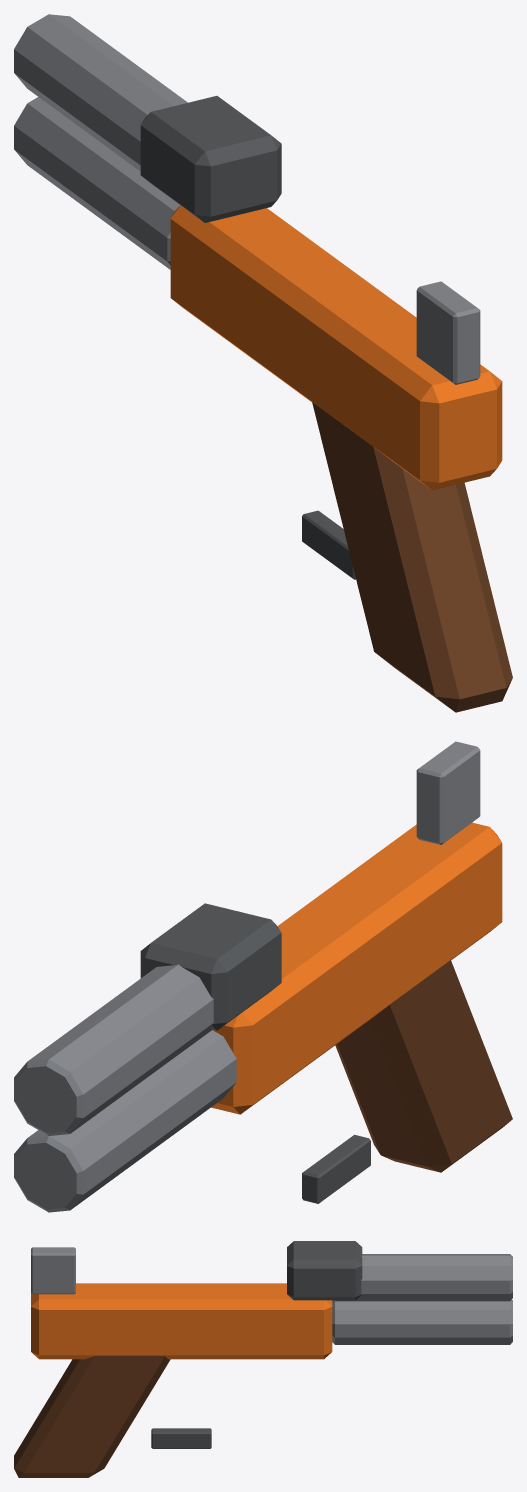
The model's file is derringer.glb.
The picture shows the model from 3 angles, top to bottom: view 1: azimuth 30°, elevation 25°; view 2: azimuth 150°, elevation 25°; view 3: azimuth 270°, elevation 25°; orthographic projection. The views are drawn at different scales.
Parts seen in each view (by area): view 1: derringer; view 2: derringer; view 3: derringer.
Part boxes in pixels (x1,y1,x2,y2): derringer: [14, 14, 512, 712]; derringer: [14, 741, 512, 1212]; derringer: [14, 1241, 512, 1477].
Bounding box in the file's own units: 0.0298 × 0.1272 × 0.26.
